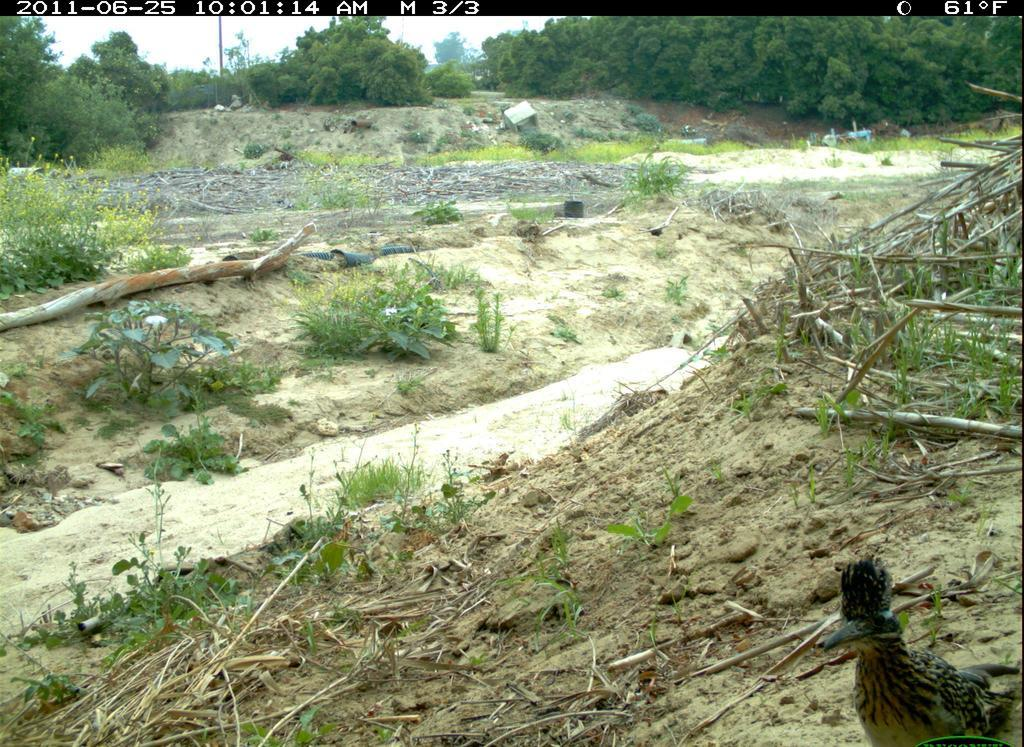bird: (813, 557, 1022, 740)
